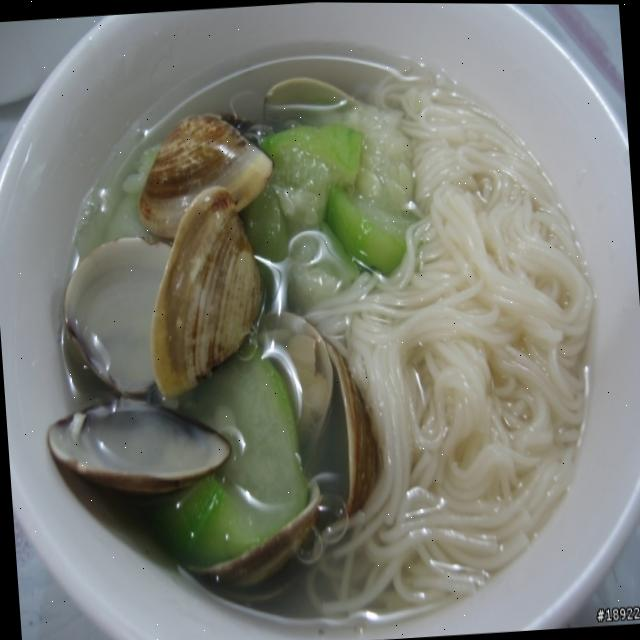Wet: (77, 62, 591, 640)
